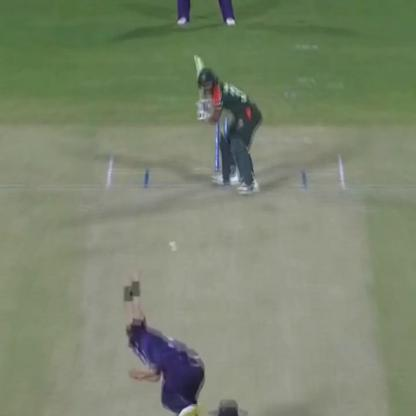ball: (164, 238, 179, 254)
bat: (189, 47, 211, 124)
pitch: (61, 155, 384, 415)
